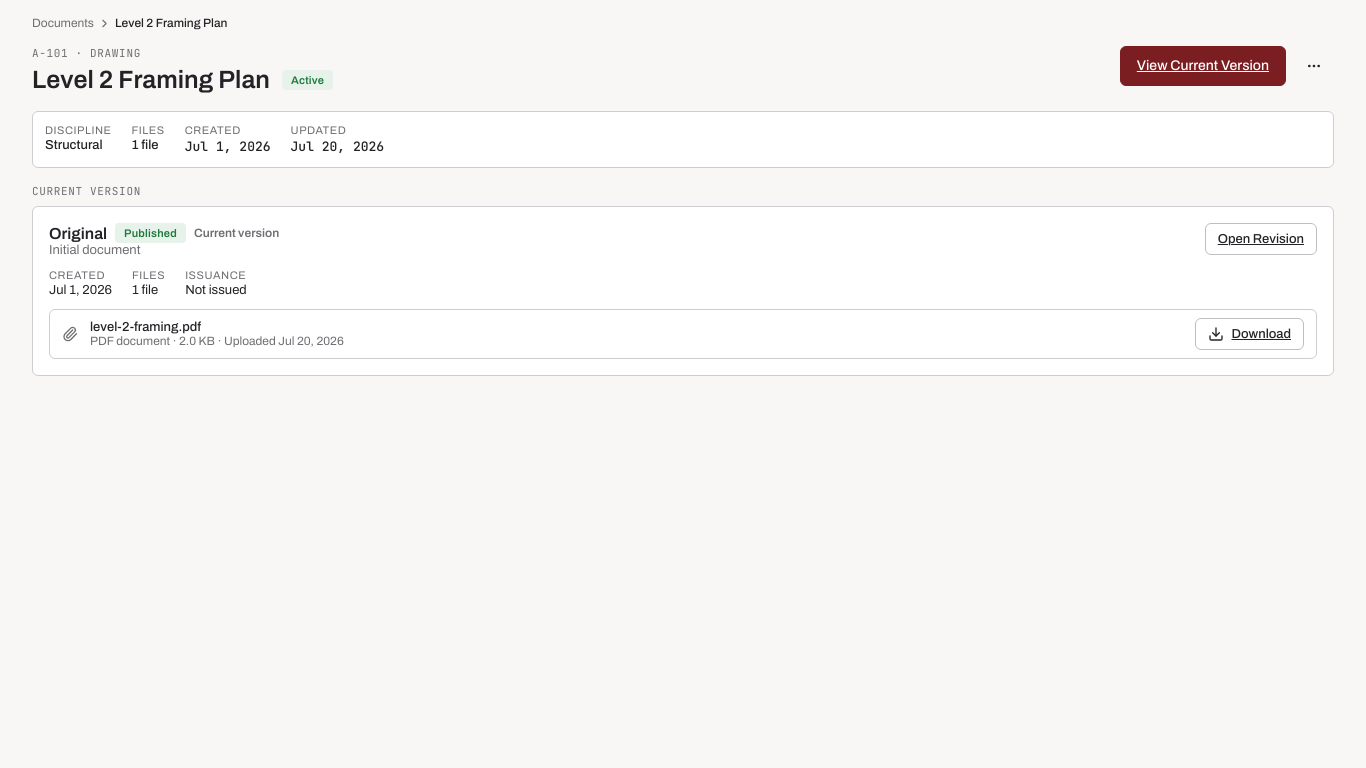
Record workspace — record workflows › blocks an empty title client-side without sending a request
Check: the header with class "base-workspace__identity" is shown, box [32,46,1334,95]
Click the button named "Document actions": x=1314, y=66 [1294,46,1334,86]
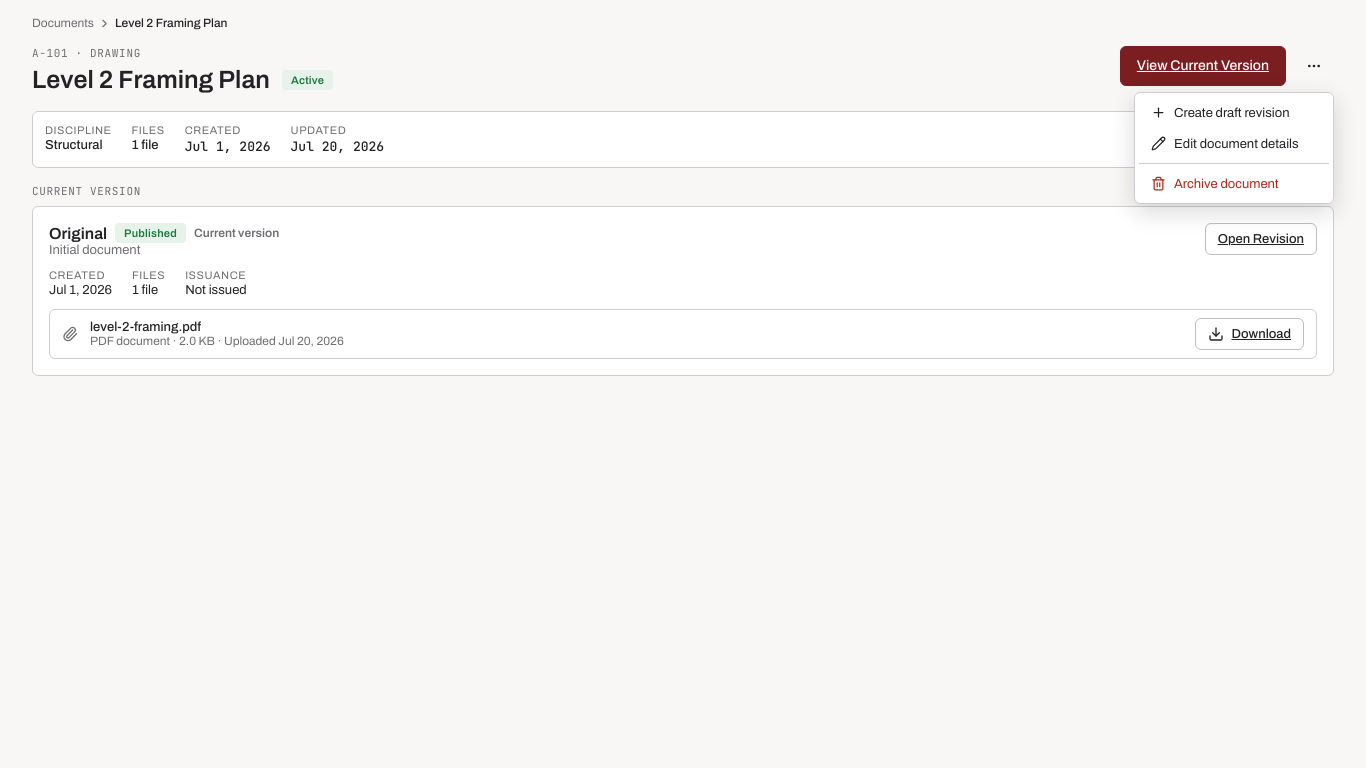
Click the menu item "Edit document details": x=1225, y=144 [1151,136,1299,151]
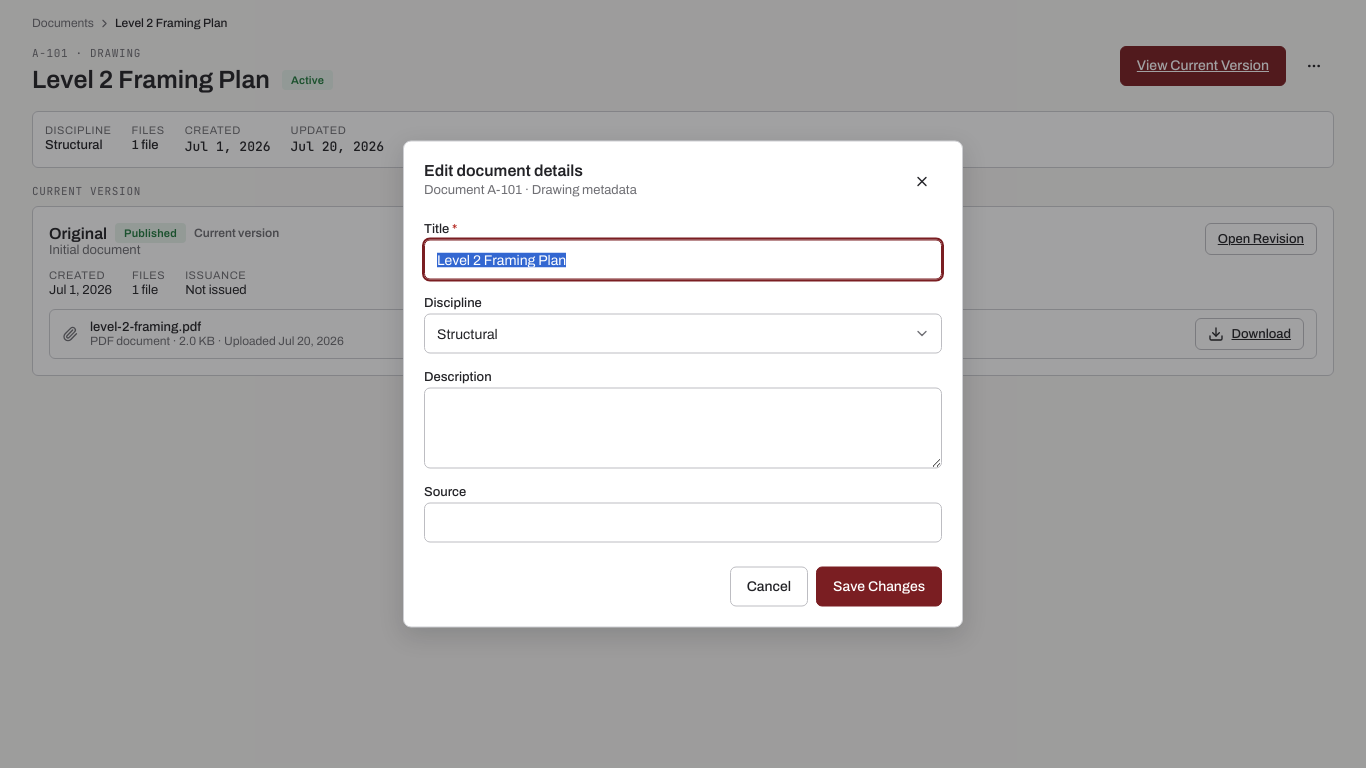
Clear the field labelled "Title *": x=683, y=260 [424,240,942,280]
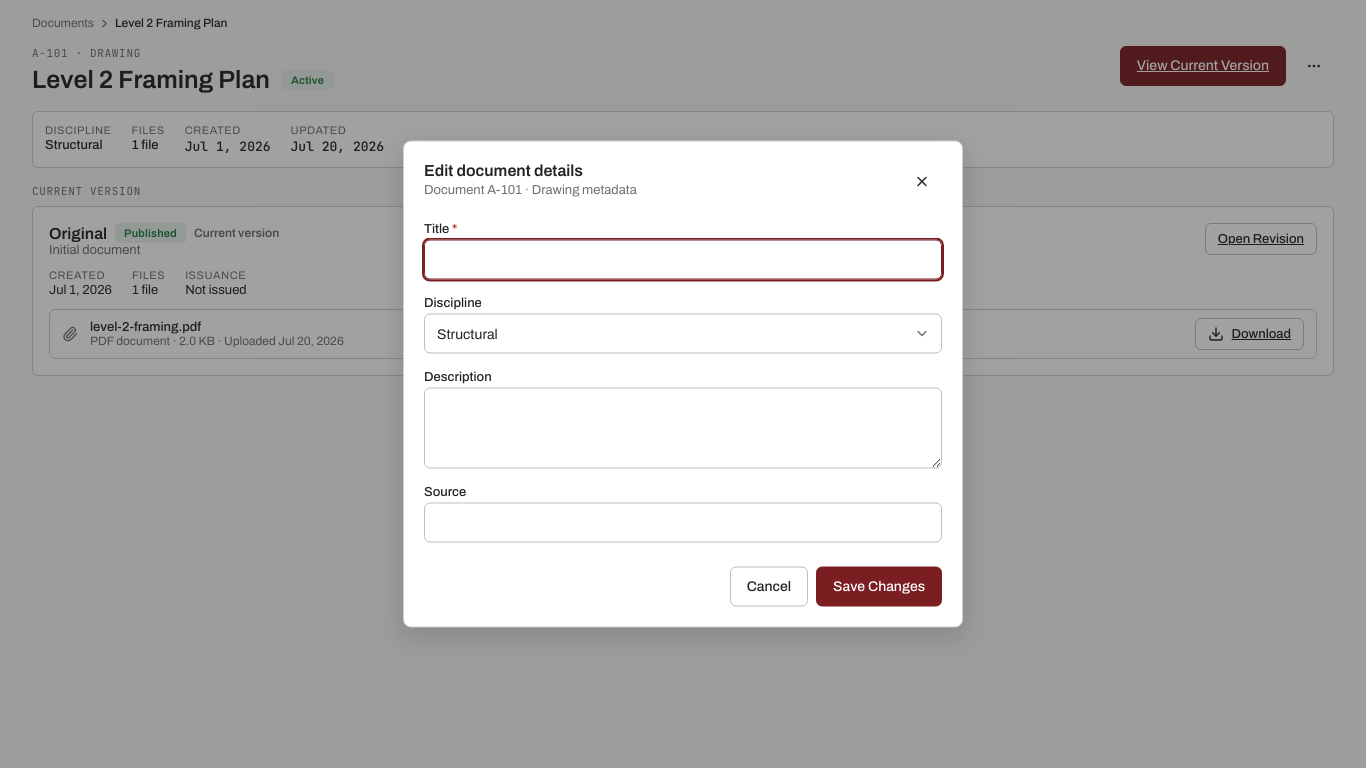
Click the button "Save changes": x=879, y=586 [816,566,942,606]
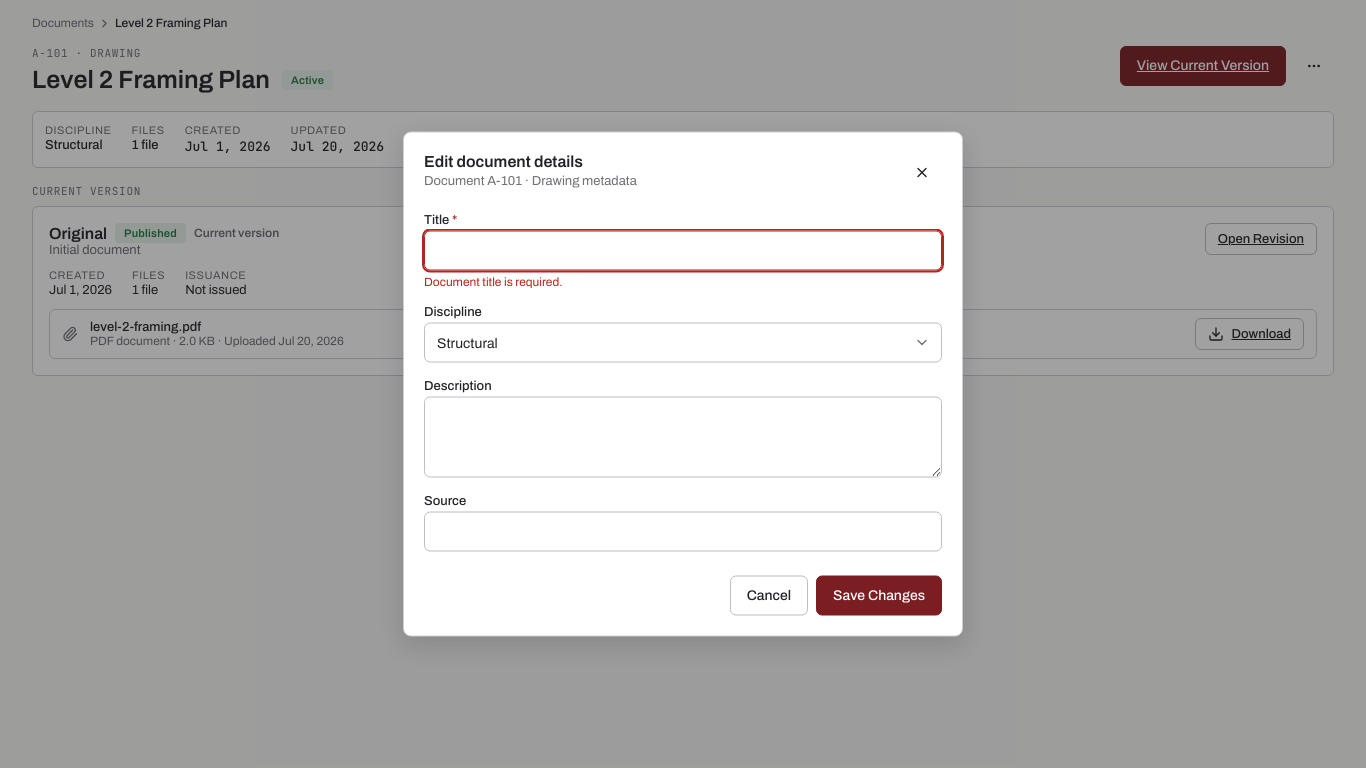
Check: the text "Document title is required." is shown, box [424,274,562,288]
